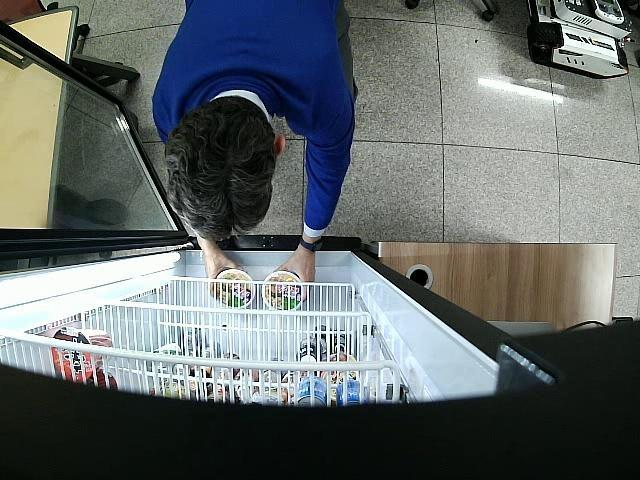09_yukGaeJang: (215, 265, 256, 308), (264, 270, 302, 310)
